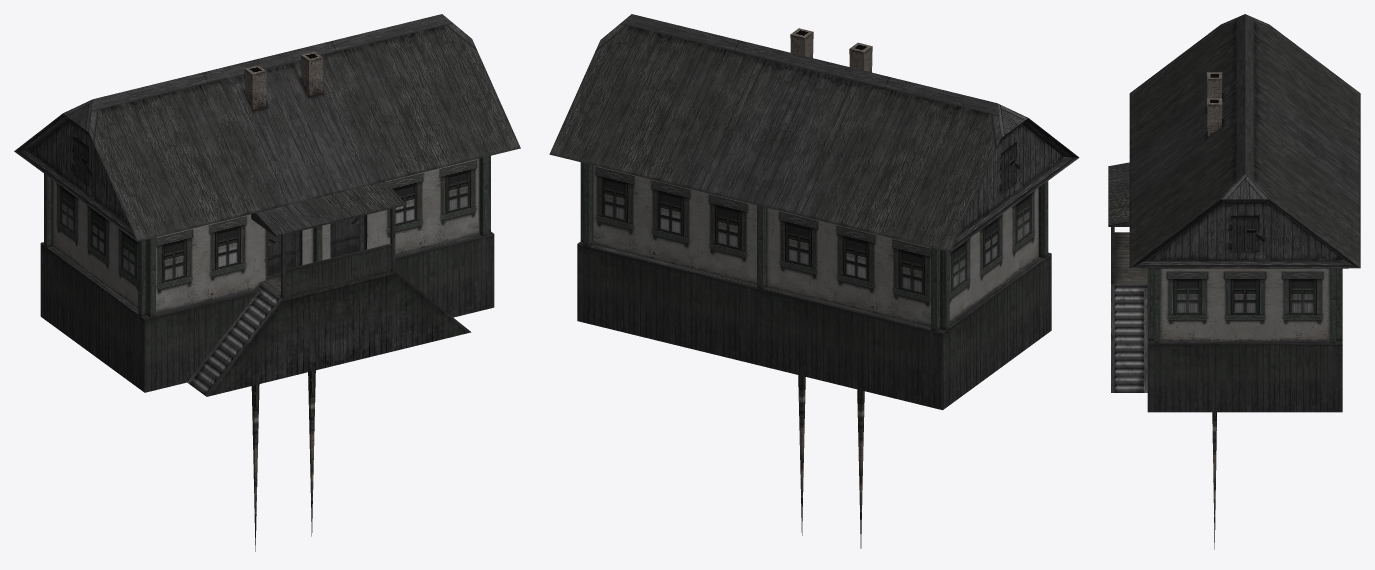
Rendered from RurHut_02.FBX.
3 views of the same model, side by side, from view 1: azimuth 30°, elevation 25°; view 2: azimuth 150°, elevation 25°; view 3: azimuth 270°, elevation 25° (orthographic). The views are drawn at different scales.
Visible parts, largest first — view 1: House_02; view 2: House_02; view 3: House_02.
Boxes of the visible parts, box(x1,y1,x2,y2) form: House_02: box(14, 14, 520, 551); House_02: box(549, 14, 1079, 548); House_02: box(1108, 14, 1360, 549).
Size of the model in its own units: 13.6 by 16.48 by 8.3.
